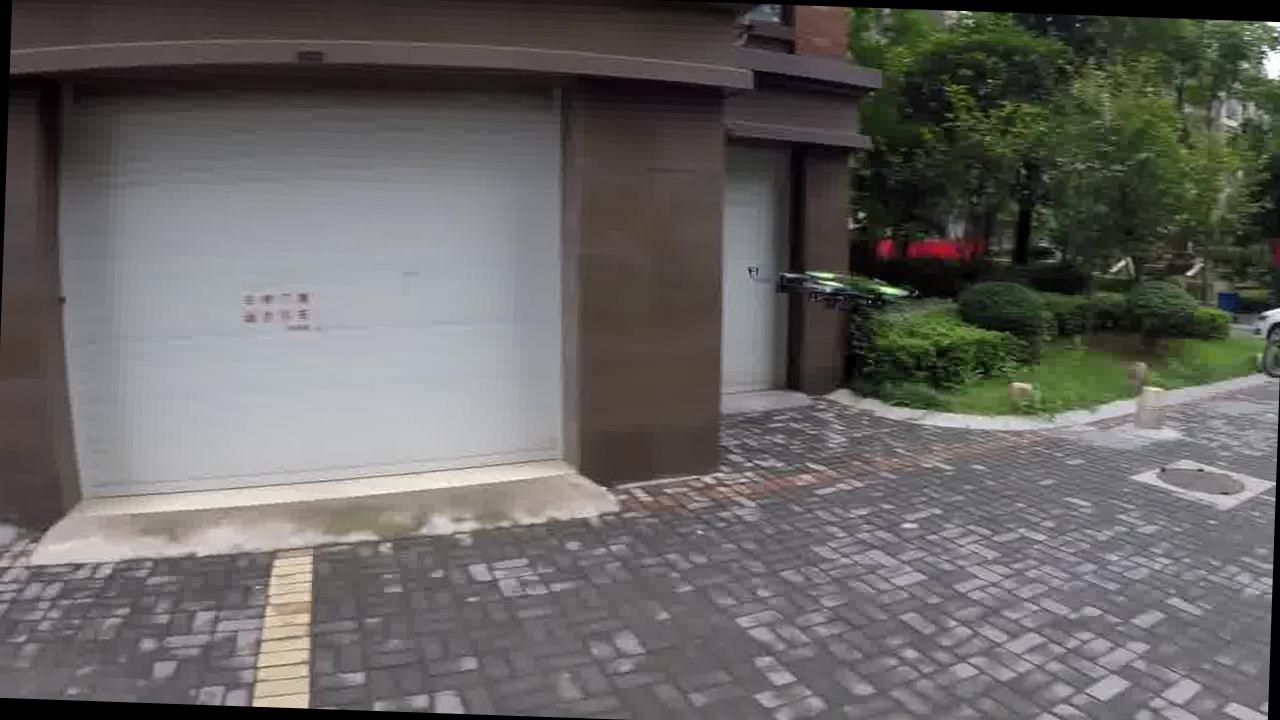drone: (738, 258, 912, 312)
